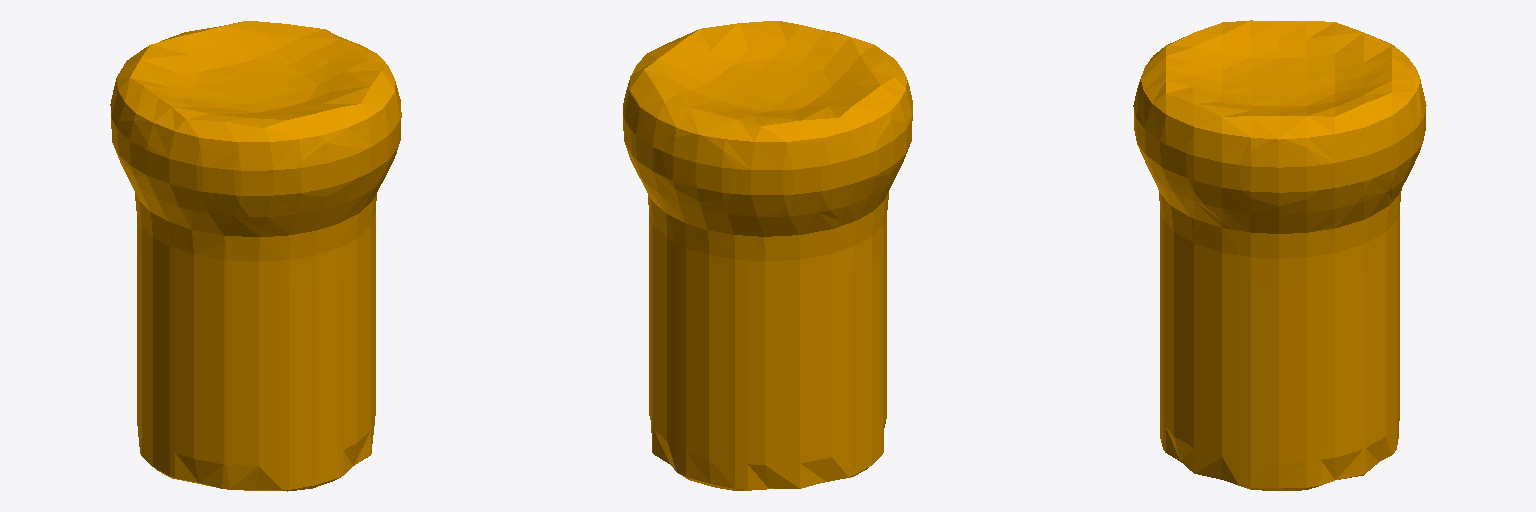
robot.urdf — cylinder_../../meshes/cylinders/cylinder_1.stl:
<?xml version="1.0" encoding="utf-8"?>  <robot name="cylinder_../../meshes/cylinders/cylinder_1.stl">   <link name="cylinder_../../meshes/cylinders/cylinder_1.stl">     <visual>       <geometry>         <mesh filename="../meshes/cylinders/cylinder_1.stl" scale="1 1 1"/>       </geometry>     </visual>     <collision>       <geometry>         <mesh filename="../meshes/cylinders/cylinder_1.stl" scale="1 1 1"/>       </geometry>     </collision>     <inertial>        <origin         xyz="0 0 0"         rpy="0 0 0" />       <mass value="0.11103907928307864"/>       <origin rpy="0 0 0" xyz="0 0 0"/>       <inertia ixx="6.448239011007776e-05" ixy="-6.1121613783224695e-09" ixz="-1.3896278302145356e-10" iyy="6.448200992992057e-05" iyz="-3.3203021948344493e-10" izz="2.823763333668177e-05"/>     </inertial>   </link>  </robot>

--- What the picture shows (computed from the rendered views, not written in the file) ---
The picture shows the robot from 3 angles, left to right: view 1: azimuth 30°, elevation 25°; view 2: azimuth 150°, elevation 25°; view 3: azimuth 270°, elevation 25°; orthographic projection.
Model cylinder_../../meshes/cylinders/cylinder_1.stl with 1 links and 0 joints (none), rooted at cylinder_../../meshes/cylinders/cylinder_1.stl, posed all joints at 0.
Links seen in each view (by area): view 1: cylinder_../../meshes/cylinders/cylinder_1.stl; view 2: cylinder_../../meshes/cylinders/cylinder_1.stl; view 3: cylinder_../../meshes/cylinders/cylinder_1.stl.
Boxes of the visible links, <box> form: cylinder_../../meshes/cylinders/cylinder_1.stl: <box>110,21,401,491</box>; cylinder_../../meshes/cylinders/cylinder_1.stl: <box>623,21,912,490</box>; cylinder_../../meshes/cylinders/cylinder_1.stl: <box>1133,20,1426,490</box>.
Bounding box of the posed robot: 0.0519 × 0.0519 × 0.0734 m (x, y, z).
1 mesh visuals loaded from 1 distinct referenced files (1 binary STL).